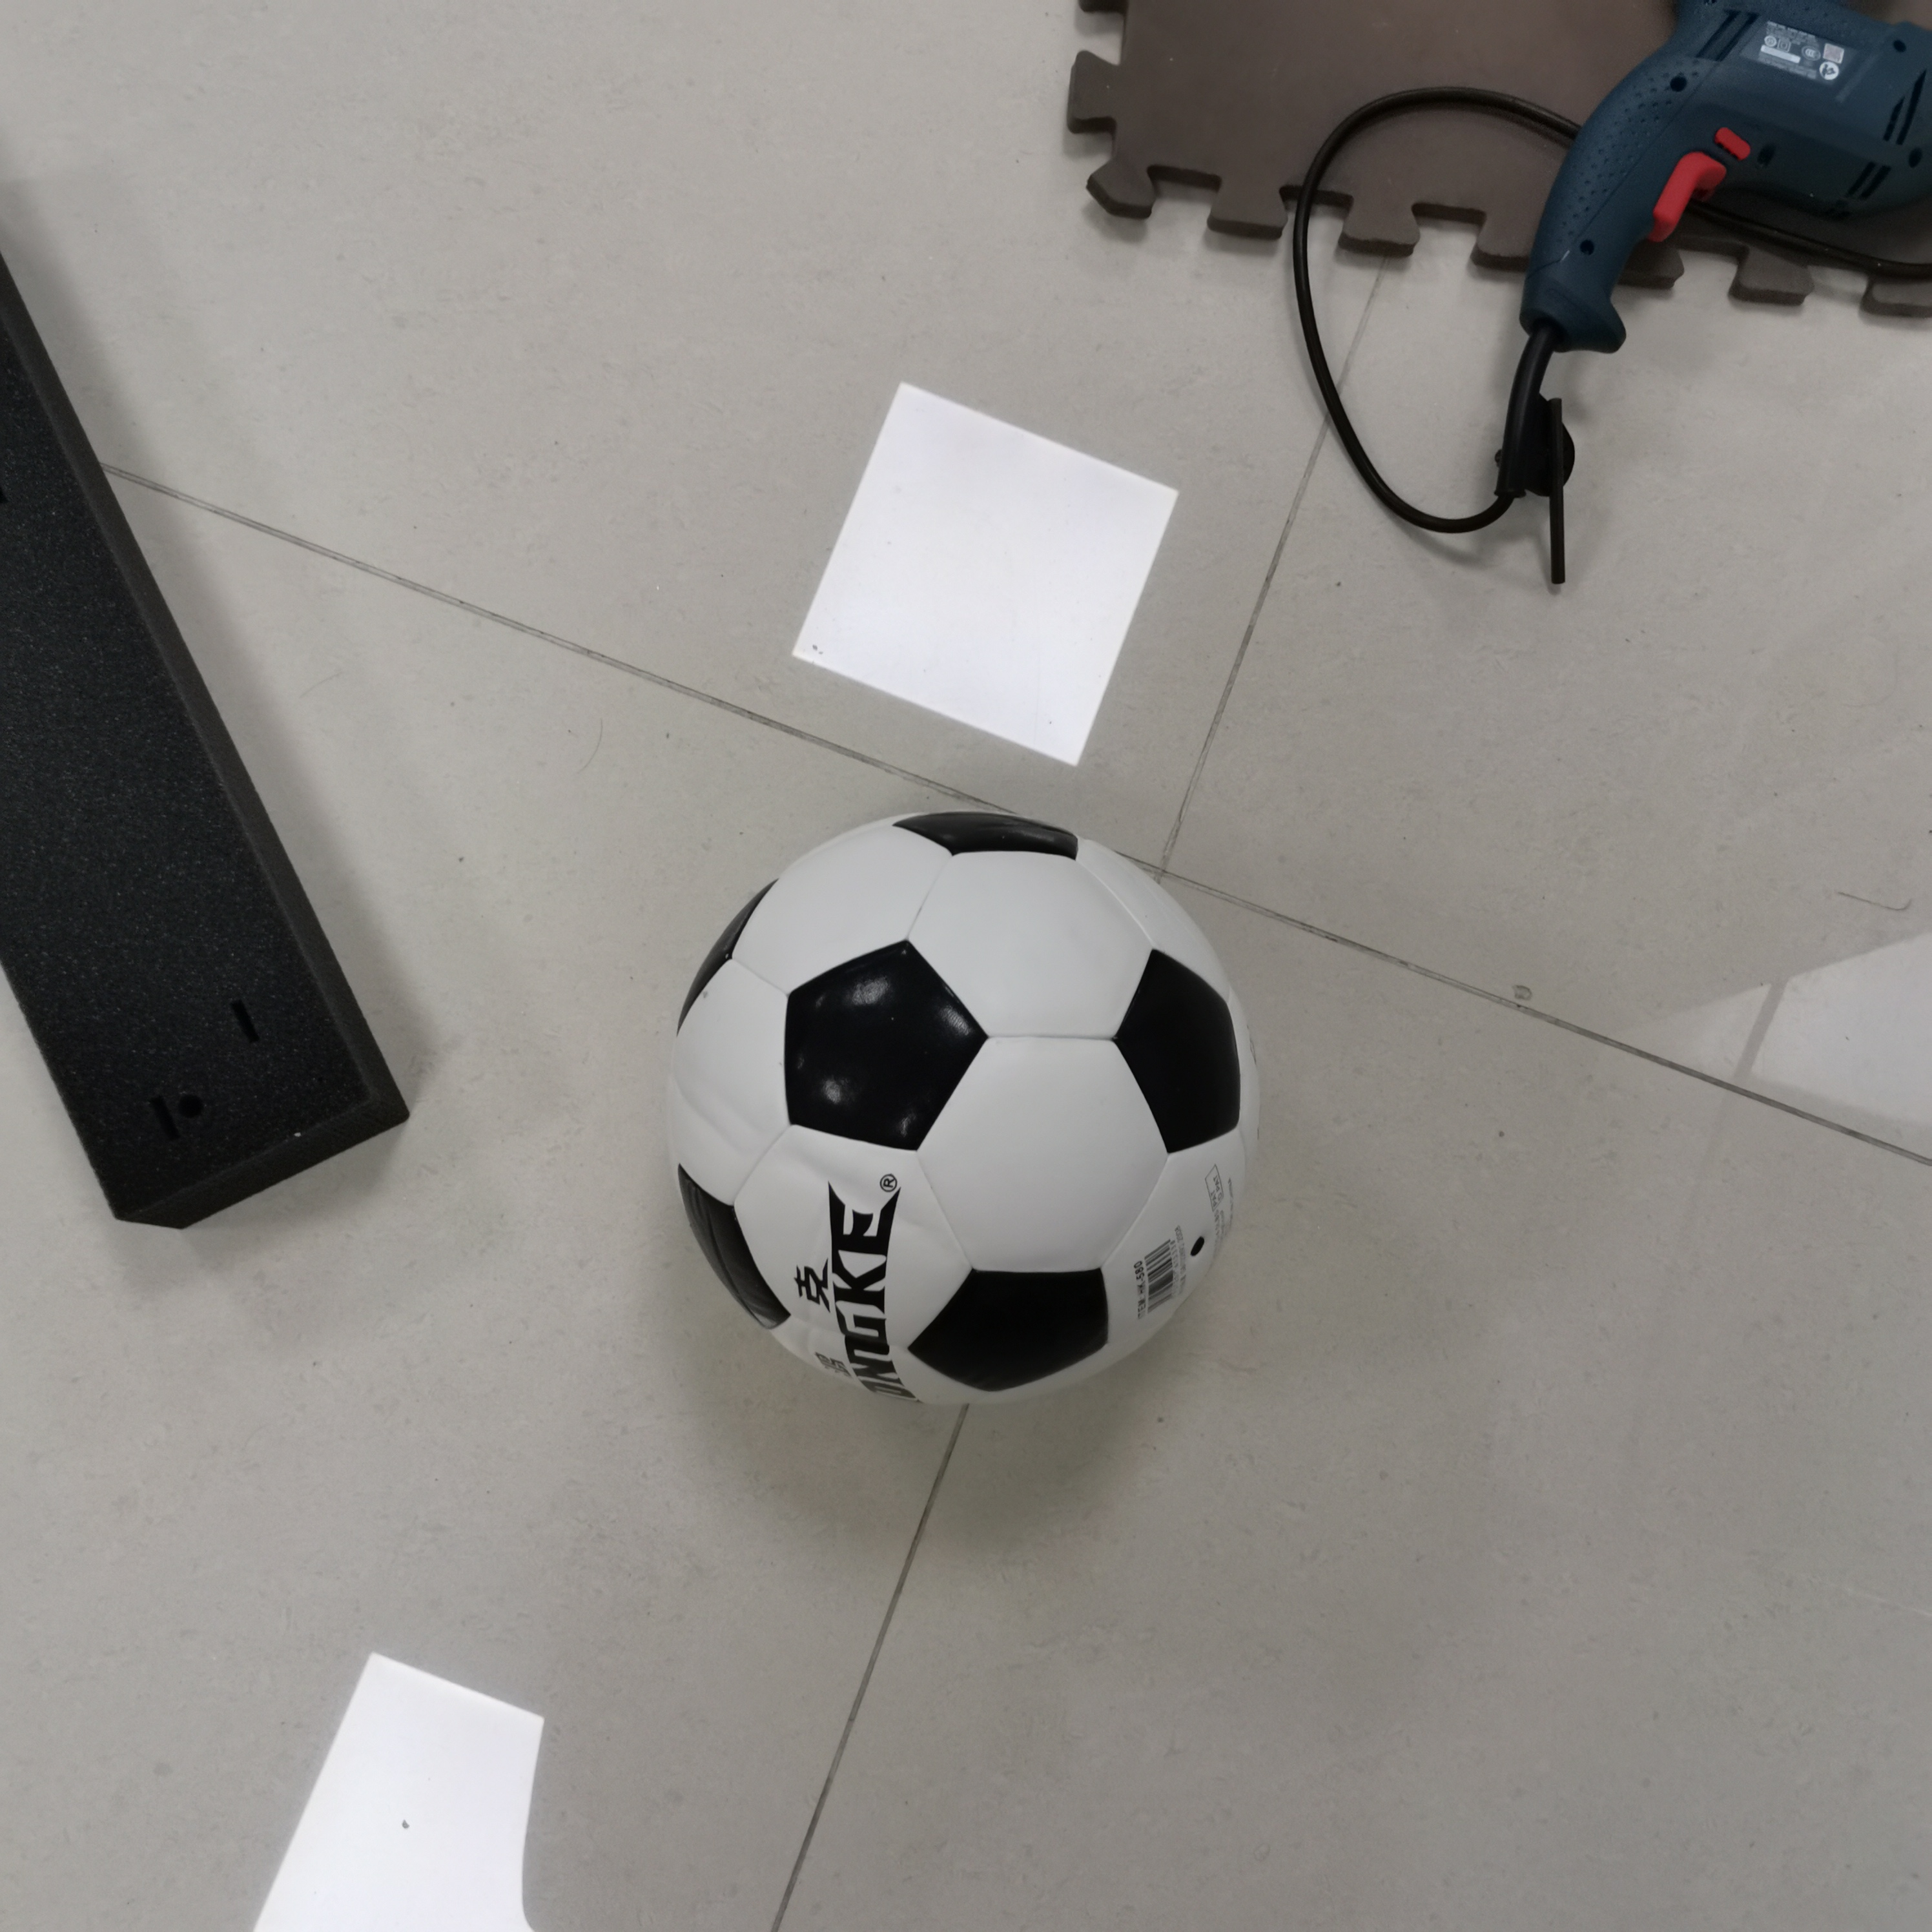football: (671, 809, 1269, 1407)
